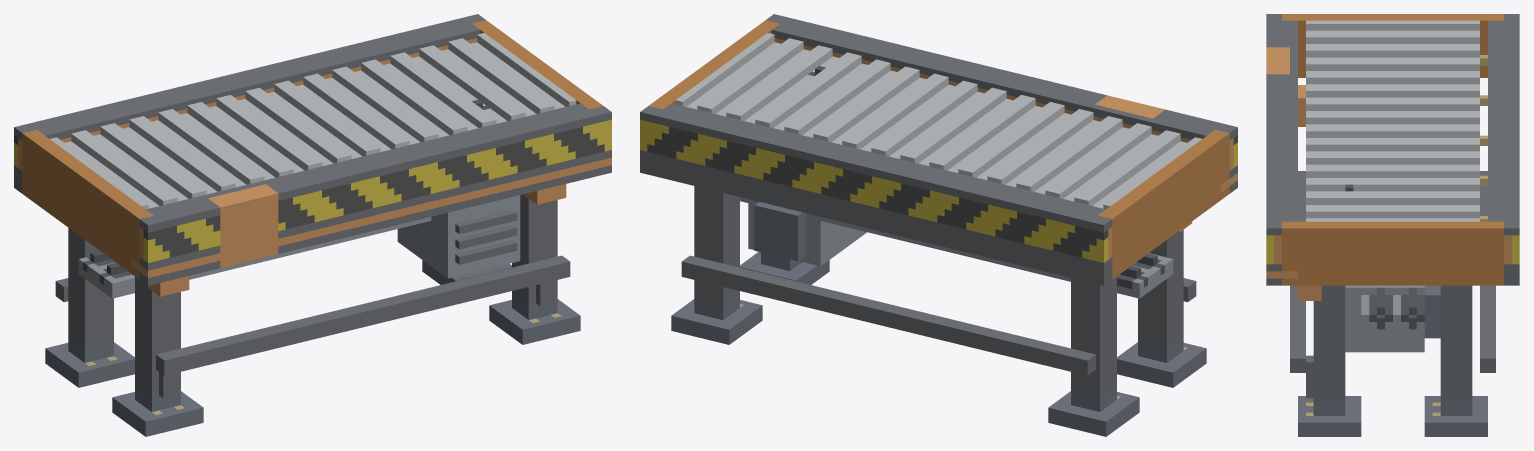
The model's file is conveyor_straight.glb.
The picture shows the model from 3 angles, left to right: view 1: azimuth 30°, elevation 25°; view 2: azimuth 150°, elevation 25°; view 3: azimuth 270°, elevation 25°; orthographic projection. The views are drawn at different scales.
Visible parts, largest first — view 1: conveyor_straight; view 2: conveyor_straight; view 3: conveyor_straight.
Part boxes in pixels (x1,y1,x2,y2): conveyor_straight: (14,14,611,436); conveyor_straight: (640,14,1237,436); conveyor_straight: (1266,14,1519,436).
Bounding box in the file's own units: 2 × 0.9375 × 1.
